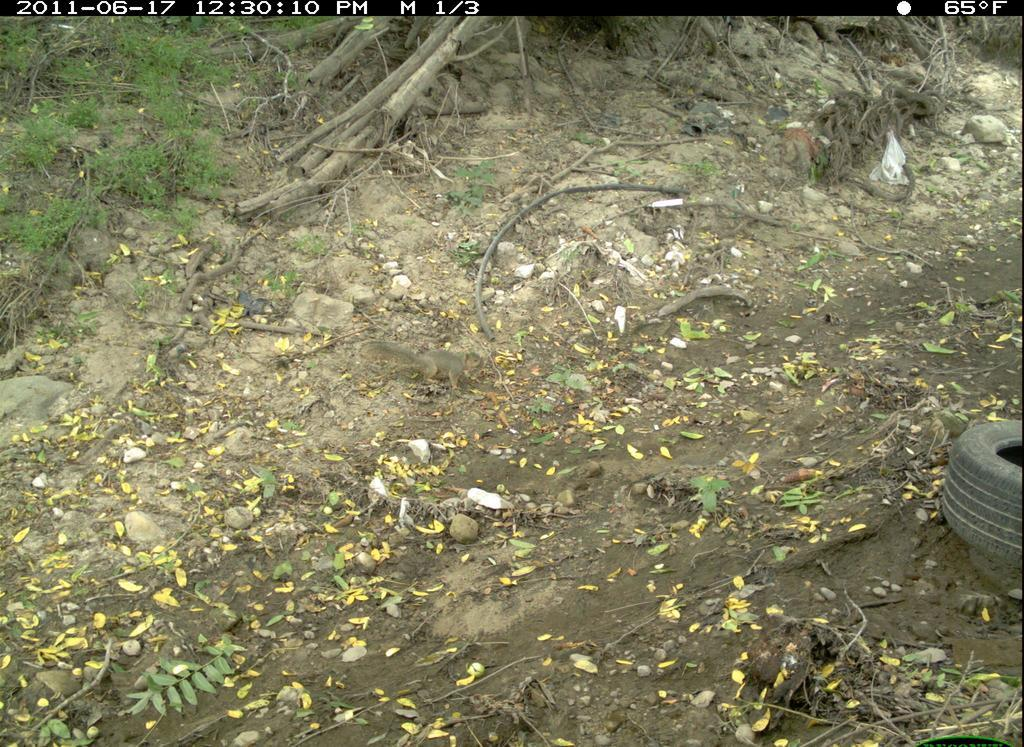squirrel: (357, 333, 494, 398)
